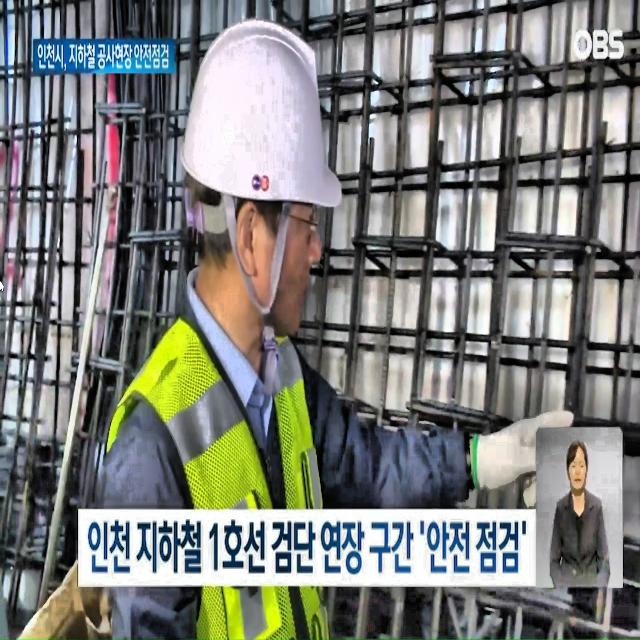safety_helmet: (178, 11, 350, 218)
safety_jacket: (69, 338, 389, 640)
